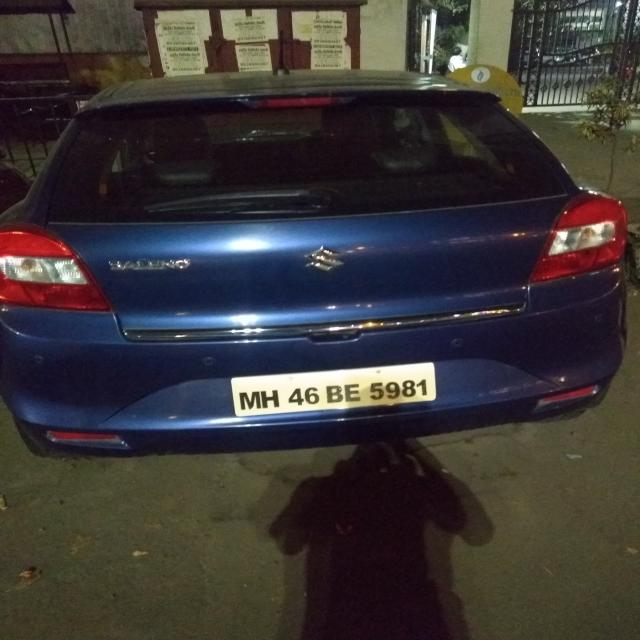Number-Plate: (232, 370, 436, 414)
